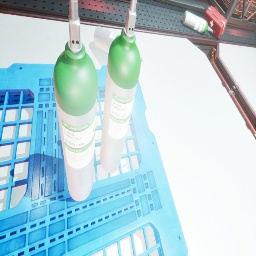0: (53, 0, 98, 202), (100, 0, 141, 173), (94, 26, 143, 62), (182, 11, 212, 34)
FirstAidBox ,: (204, 6, 227, 38)
